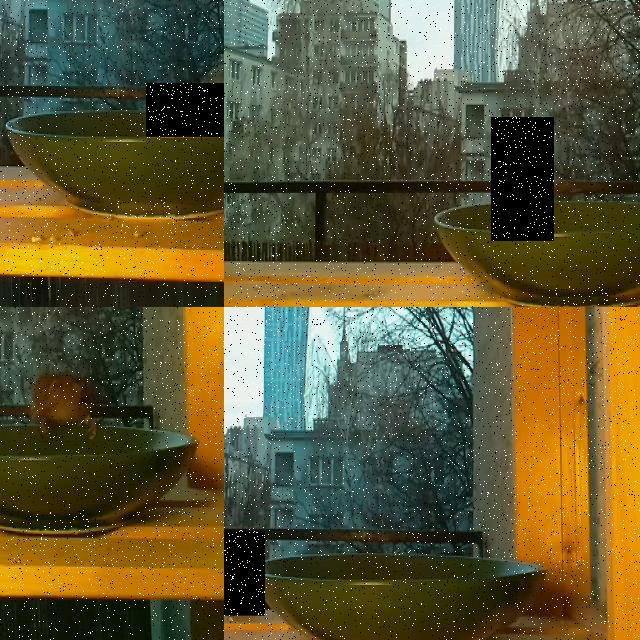Modraszka: (146, 83, 224, 136), (224, 531, 265, 615)
Wrobel: (491, 117, 554, 241), (29, 368, 104, 434)
